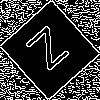Z: (24, 25, 78, 80)
